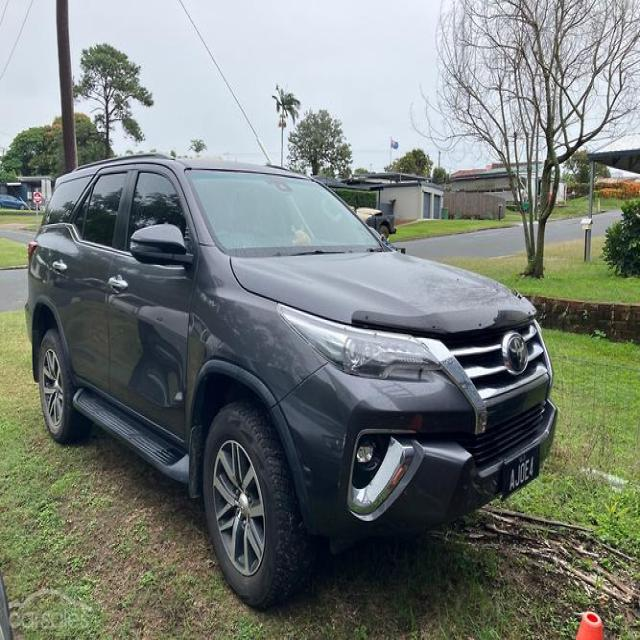light_vehicle: (24, 154, 559, 610)
